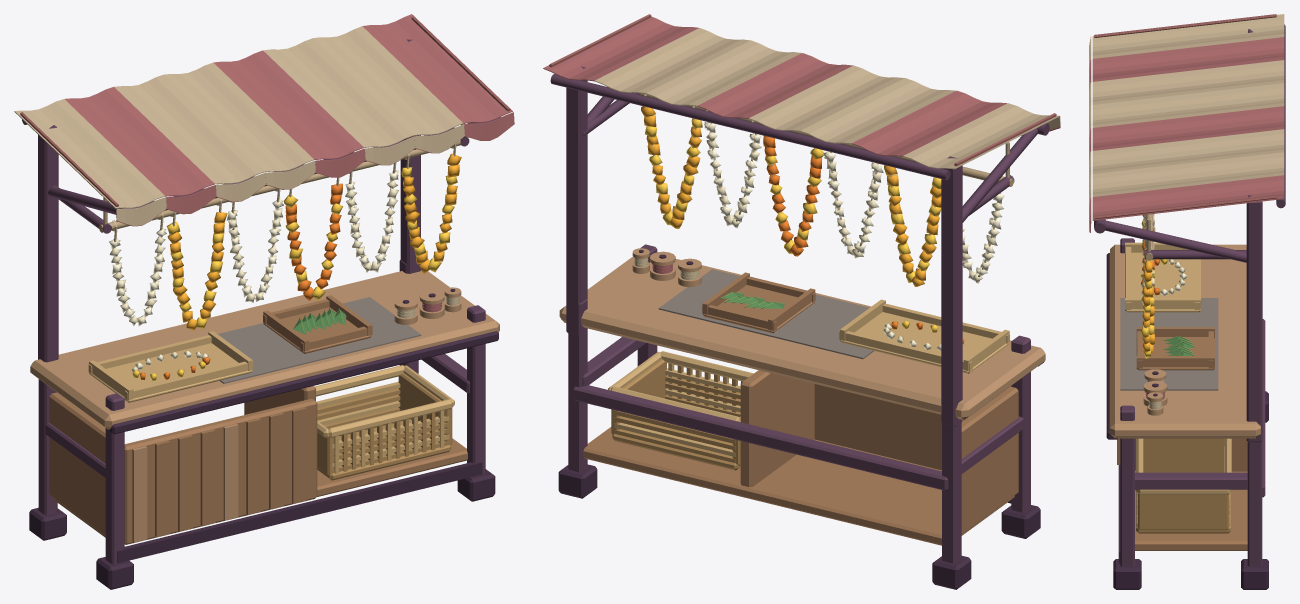
File: festival-flower-garland-stall.glb
The picture shows the model from 3 angles, left to right: view 1: azimuth 30°, elevation 25°; view 2: azimuth 150°, elevation 25°; view 3: azimuth 270°, elevation 25°; orthographic projection. The views are drawn at different scales.
Visible parts, largest first — view 1: Cloth awning and openings | Unbleached awning fabric, Structural frame and waist counter | Warm laminated timber c, Cloth awning and openings | Dusty rose awning stripe, Structural frame and waist counter | Satin pale oak shelf in, Structural frame and waist counter | Deep wine frame edge sh, Coiled stock tray leaf bundles baskets and thread | Pale wov, Structural frame and waist counter | Aubergine powder-coated, Cloth awning and openings | Aubergine powder-coated stall fr, Coiled stock tray leaf bundles baskets and thread | Stripped, Coiled stock tray leaf bundles baskets and thread | Dusty gr, Coiled stock tray leaf bundles baskets and thread | Warm lam, Ochre marigold-like retail garland 2 (+11 smaller); view 2: Structural frame and waist counter | Warm laminated timber c, Cloth awning and openings | Unbleached awning fabric, Structural frame and waist counter | Satin pale oak shelf in, Structural frame and waist counter | Aubergine powder-coated, Cloth awning and openings | Aubergine powder-coated stall fr, Cloth awning and openings | Dusty rose awning stripe, Coiled stock tray leaf bundles baskets and thread | Pale wov, Coiled stock tray leaf bundles baskets and thread | Stripped, Coiled stock tray leaf bundles baskets and thread | Dusty gr, Coiled stock tray leaf bundles baskets and thread | Warm lam, Structural frame and waist counter | Deep wine frame edge sh, Ochre marigold-like retail garland 6 (+9 smaller); view 3: Cloth awning and openings | Unbleached awning fabric, Cloth awning and openings | Dusty rose awning stripe, Structural frame and waist counter | Satin pale oak shelf in, Structural frame and waist counter | Aubergine powder-coated, Coiled stock tray leaf bundles baskets and thread | Stripped, Cloth awning and openings | Aubergine powder-coated stall fr, Coiled stock tray leaf bundles baskets and thread | Pale wov, Coiled stock tray leaf bundles baskets and thread | Dusty gr, Structural frame and waist counter | Warm laminated timber c, Coiled stock tray leaf bundles baskets and thread | Warm lam, Structural frame and waist counter | Deep wine frame edge sh, Cloth awning and openings | Dark bound fold seam (+6 smaller).
Part boxes in pixels (bbox=[...]): Cloth awning and openings | Unbleached awning fabric: bbox=[14, 26, 464, 225]; Structural frame and waist counter | Warm laminated timber c: bbox=[49, 386, 467, 544]; Cloth awning and openings | Dusty rose awning stripe: bbox=[65, 14, 514, 213]; Structural frame and waist counter | Satin pale oak shelf in: bbox=[30, 270, 499, 542]; Structural frame and waist counter | Deep wine frame edge sh: bbox=[29, 331, 498, 589]; Coiled stock tray leaf bundles baskets and thread | Pale wov: bbox=[88, 331, 454, 473]; Structural frame and waist counter | Aubergine powder-coated: bbox=[38, 259, 485, 564]; Cloth awning and openings | Aubergine powder-coated stall fr: bbox=[22, 39, 500, 362]; Coiled stock tray leaf bundles baskets and thread | Stripped: bbox=[317, 373, 452, 480]; Coiled stock tray leaf bundles baskets and thread | Dusty gr: bbox=[217, 297, 421, 383]; Coiled stock tray leaf bundles baskets and thread | Warm lam: bbox=[263, 295, 372, 353]; Ochre marigold-like retail garland 2: bbox=[166, 212, 227, 330]; Structural frame and waist counter | Warm laminated timber c: bbox=[583, 370, 1018, 545]; Cloth awning and openings | Unbleached awning fabric: bbox=[594, 28, 1060, 169]; Structural frame and waist counter | Satin pale oak shelf in: bbox=[559, 256, 1045, 420]; Structural frame and waist counter | Aubergine powder-coated: bbox=[568, 244, 1030, 563]; Cloth awning and openings | Aubergine powder-coated stall fr: bbox=[550, 66, 1049, 426]; Cloth awning and openings | Dusty rose awning stripe: bbox=[543, 16, 1008, 156]; Coiled stock tray leaf bundles baskets and thread | Pale wov: bbox=[608, 299, 1009, 456]; Coiled stock tray leaf bundles baskets and thread | Stripped: bbox=[611, 359, 742, 470]; Coiled stock tray leaf bundles baskets and thread | Dusty gr: bbox=[658, 269, 873, 359]; Coiled stock tray leaf bundles baskets and thread | Warm lam: bbox=[702, 272, 815, 333]; Structural frame and waist counter | Deep wine frame edge sh: bbox=[558, 361, 1044, 589]; Ochre marigold-like retail garland 6: bbox=[641, 106, 702, 228]; Cloth awning and openings | Unbleached awning fabric: bbox=[1089, 14, 1284, 205]; Cloth awning and openings | Dusty rose awning stripe: bbox=[1089, 37, 1284, 231]; Structural frame and waist counter | Satin pale oak shelf in: bbox=[1110, 244, 1260, 438]; Structural frame and waist counter | Aubergine powder-coated: bbox=[1120, 238, 1265, 566]; Coiled stock tray leaf bundles baskets and thread | Stripped: bbox=[1136, 438, 1230, 533]; Cloth awning and openings | Aubergine powder-coated stall fr: bbox=[1094, 24, 1285, 442]; Coiled stock tray leaf bundles baskets and thread | Pale wov: bbox=[1125, 242, 1231, 523]; Coiled stock tray leaf bundles baskets and thread | Dusty gr: bbox=[1120, 298, 1218, 390]; Structural frame and waist counter | Warm laminated timber c: bbox=[1117, 438, 1247, 550]; Coiled stock tray leaf bundles baskets and thread | Warm lam: bbox=[1136, 327, 1214, 370]; Structural frame and waist counter | Deep wine frame edge sh: bbox=[1106, 253, 1268, 589]; Cloth awning and openings | Dark bound fold seam: bbox=[1089, 14, 1276, 232].
Bounding box in the file's own units: 2.13 × 2.14 × 0.959.
